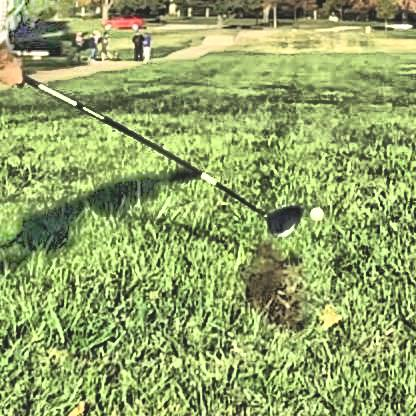golfball: (306, 203, 321, 218)
